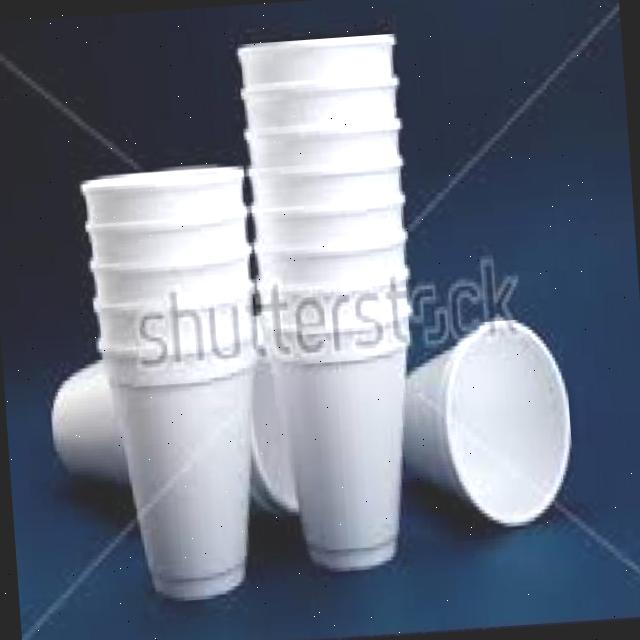trash: (235, 31, 424, 564), (74, 155, 268, 602), (43, 321, 299, 528), (92, 316, 265, 606), (259, 312, 422, 576), (392, 308, 576, 526)
